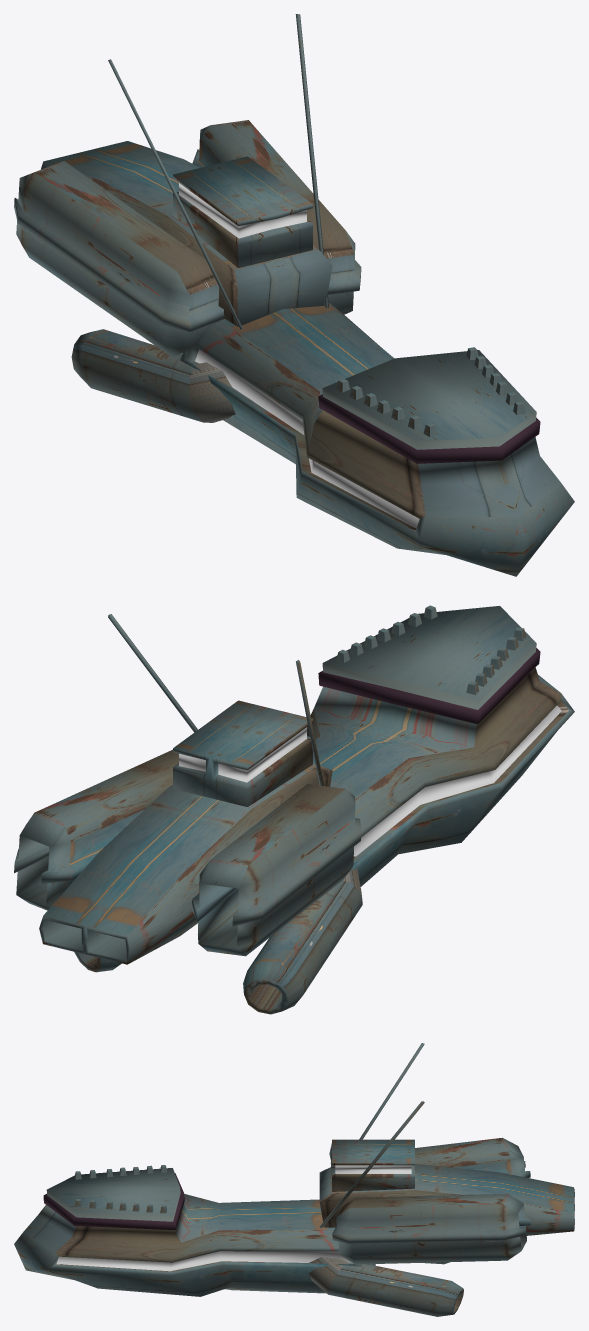
The model's file is base_ship.obj.
3 renders of one model, top to bottom at view 1: azimuth 30°, elevation 25°; view 2: azimuth 150°, elevation 25°; view 3: azimuth 270°, elevation 25°, orthographic. The views are drawn at different scales.
Parts seen in each view (by area): view 1: SpaceShip_Cube.001; view 2: SpaceShip_Cube.001; view 3: SpaceShip_Cube.001.
Boxes of the visible parts, <box> form: SpaceShip_Cube.001: <box>14,14,574,576</box>; SpaceShip_Cube.001: <box>14,605,574,1014</box>; SpaceShip_Cube.001: <box>14,1043,574,1316</box>.
Size of the model in its own units: 6.11 by 8.34 by 19.11.
